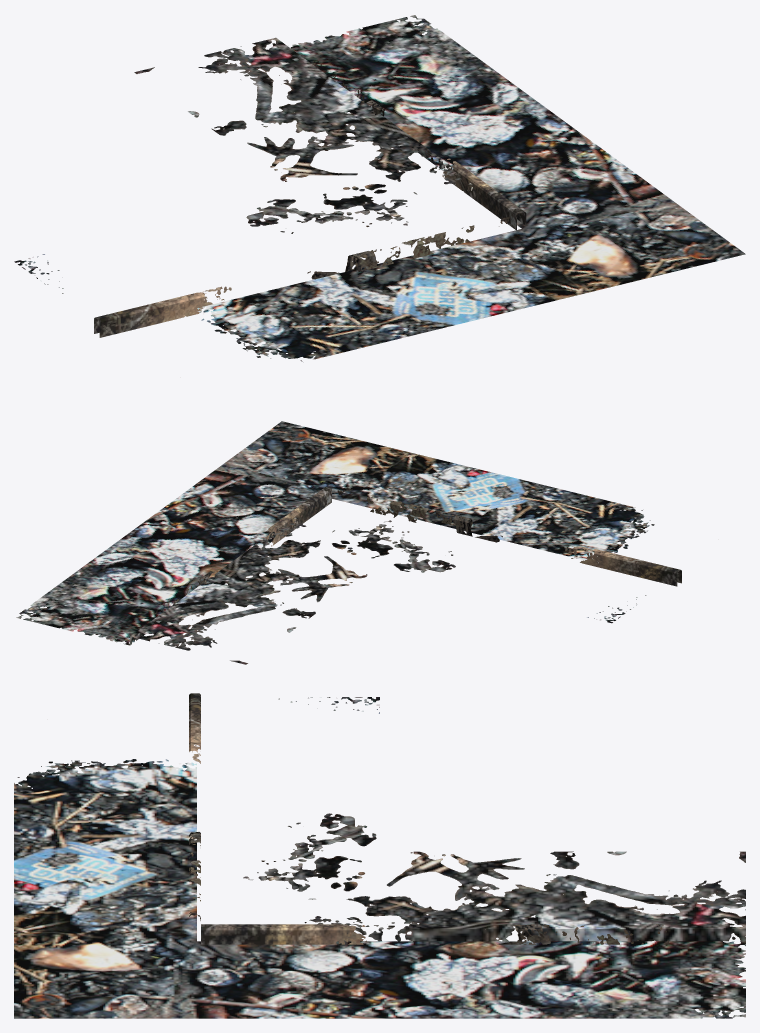
File: RoadTurn02.fbx
3 renders of one model, top to bottom at view 1: azimuth 30°, elevation 25°; view 2: azimuth 150°, elevation 25°; view 3: azimuth 270°, elevation 25°, orthographic. The views are drawn at different scales.
Visible parts, largest first — view 1: RoadTurn02; view 2: RoadTurn02; view 3: RoadTurn02.
Part boxes in pixels (x1=…): RoadTurn02: x1=14, y1=15, x2=745, y2=361; RoadTurn02: x1=16, y1=421, x2=681, y2=664; RoadTurn02: x1=14, y1=693, x2=745, y2=1018.
Size of the model in its own units: 800 by 23.07 by 800.
